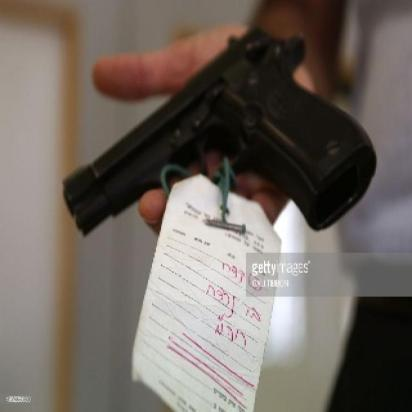Gun: (59, 21, 379, 239)
